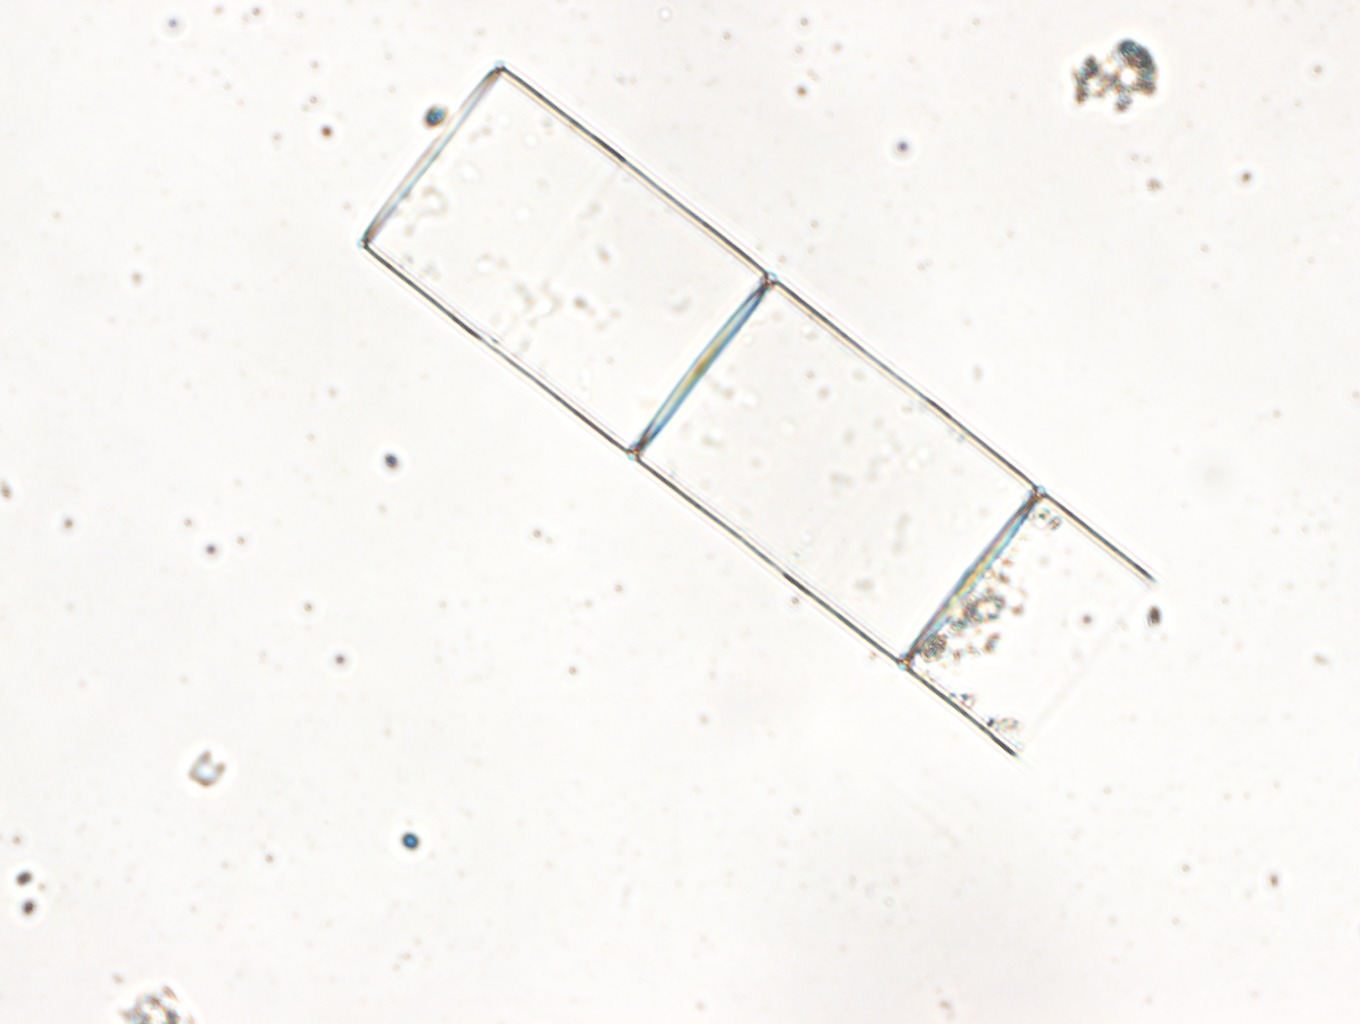guinardia flaccida: (360, 65, 1156, 757)
